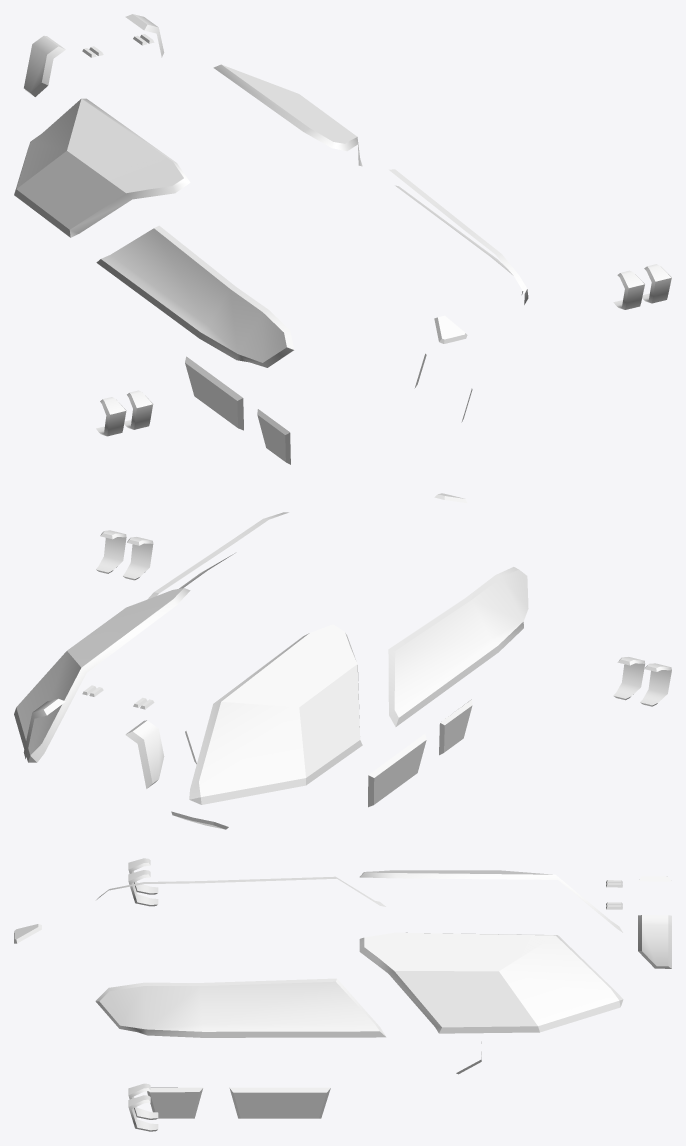
File: kpr_keeper_01.glb
3 renders of one model, top to bottom at view 1: azimuth 30°, elevation 25°; view 2: azimuth 150°, elevation 25°; view 3: azimuth 270°, elevation 25°, orthographic. The views are drawn at different scales.
Visible parts, largest first — view 1: kpr_keeper_01_LOD0; view 2: kpr_keeper_01_LOD0; view 3: kpr_keeper_01_LOD0.
Part boxes in pixels (box(x1,y1,x2,y2)): kpr_keeper_01_LOD0: box(14, 14, 671, 464); kpr_keeper_01_LOD0: box(14, 493, 671, 829); kpr_keeper_01_LOD0: box(14, 858, 671, 1131).
Size of what is drawn, in the model's own units: 3.42 by 1.22 by 3.86.
Materials: 1 (1 with a texture image).
